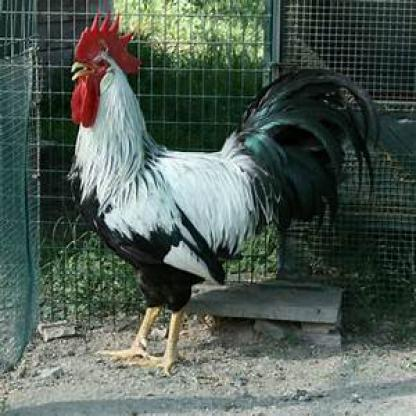chicken: (71, 10, 380, 374)
